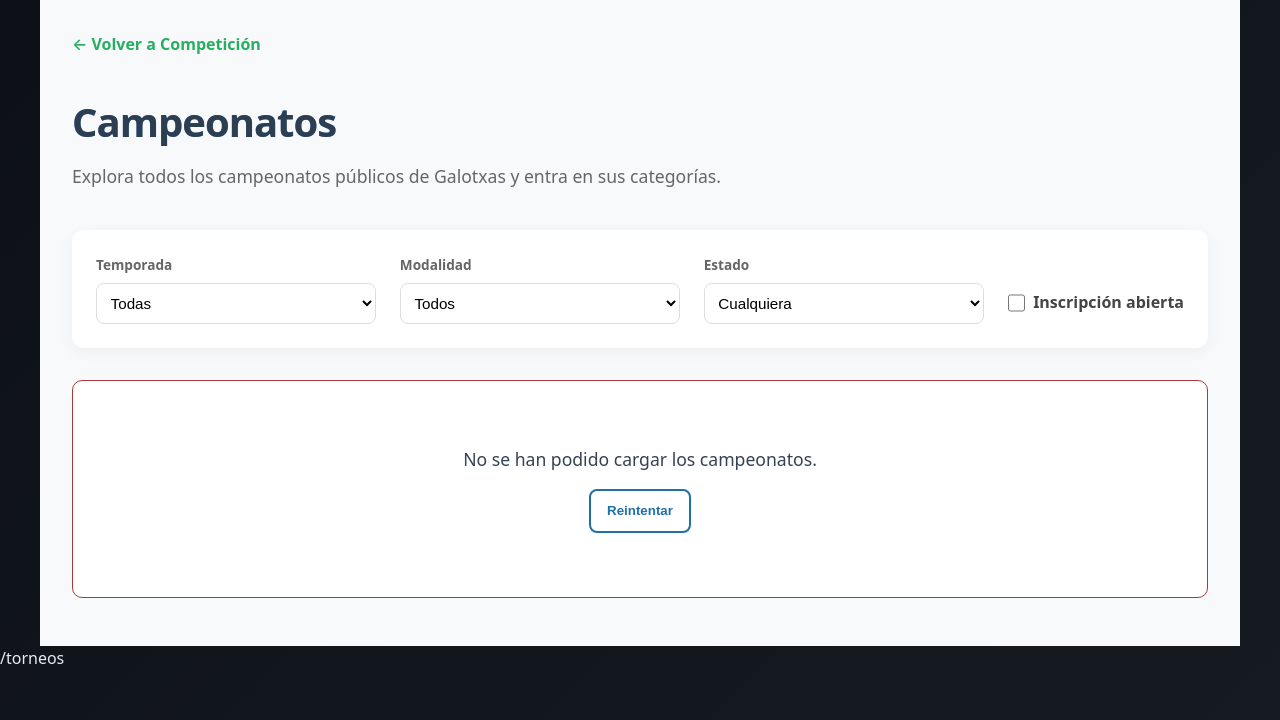
Scenario: TournamentList › retries the championship list after an error
Step 1. Click the button "Reintentar" → (640, 511), box [589,489,691,533]
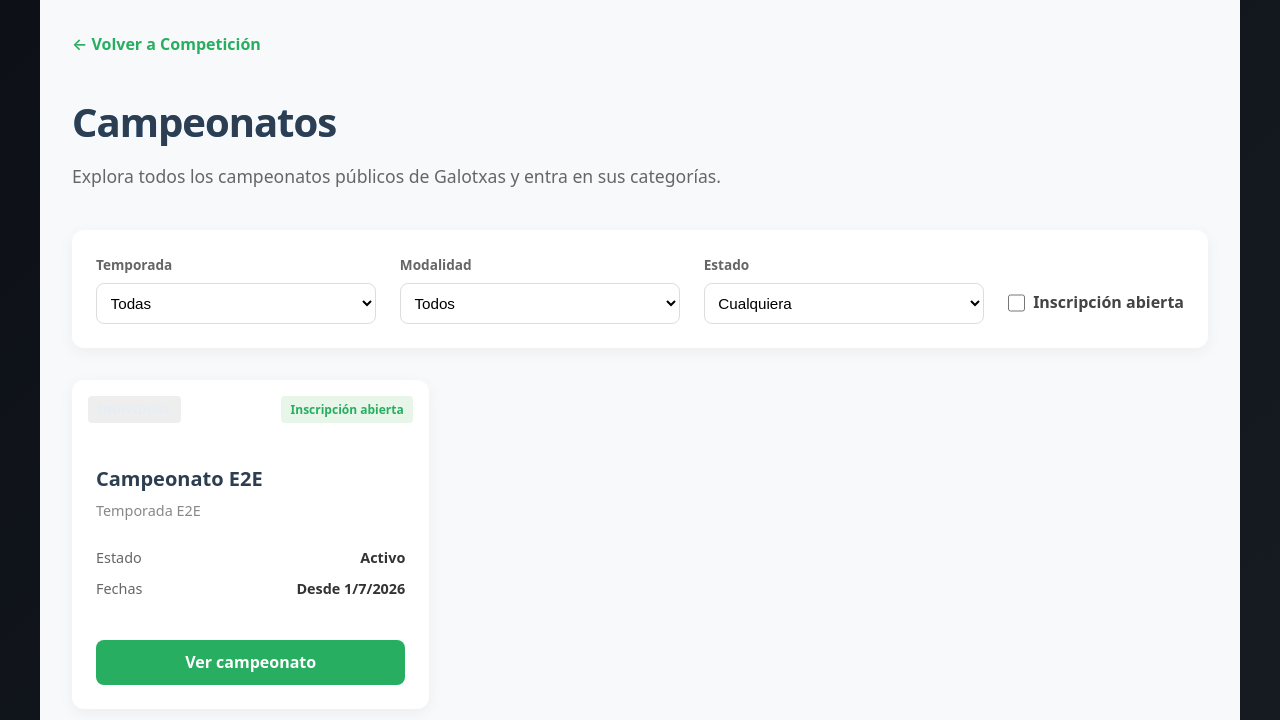
expect the heading "Campeonato E2E" is shown: met, box [96,465,263,492]
